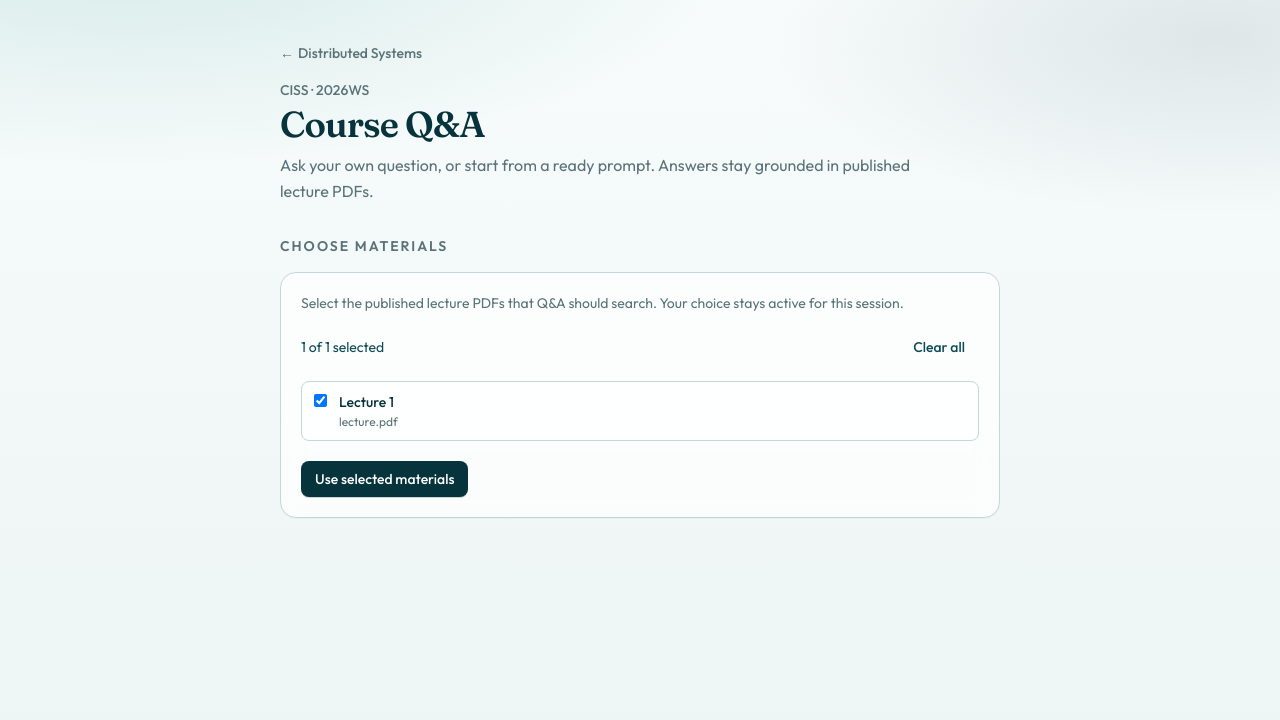
Test: course Q&A page › asks a grounded question and shows the answer with citations
Check: the heading "Course Q&A" is shown, box [280,102,485,146]
Check: the heading "Choose materials" is shown, box [280,237,448,255]
Click the button "Use selected materials": (385, 479) [301,461,468,497]
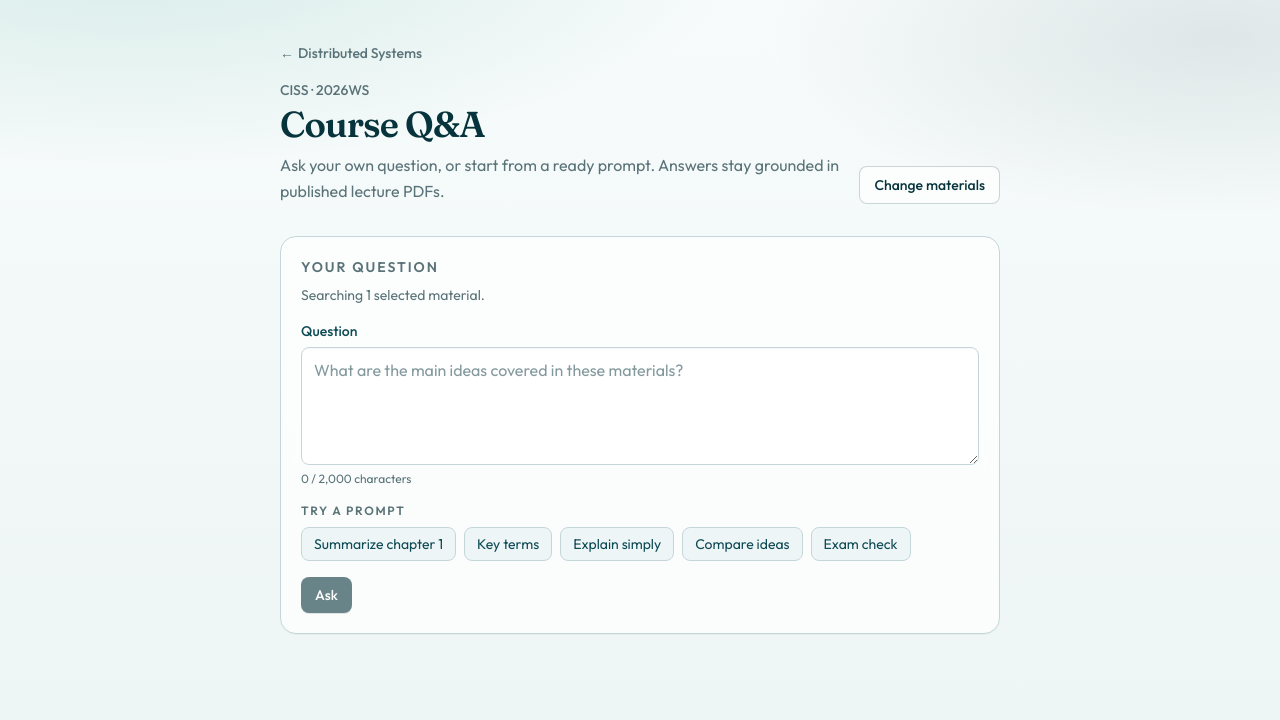
Check: the text "Searching 1 selected material." is shown, box [301,286,485,304]
In the text box labelled "Question": (640, 406) [301,347,979,465], type "What is consensus?"
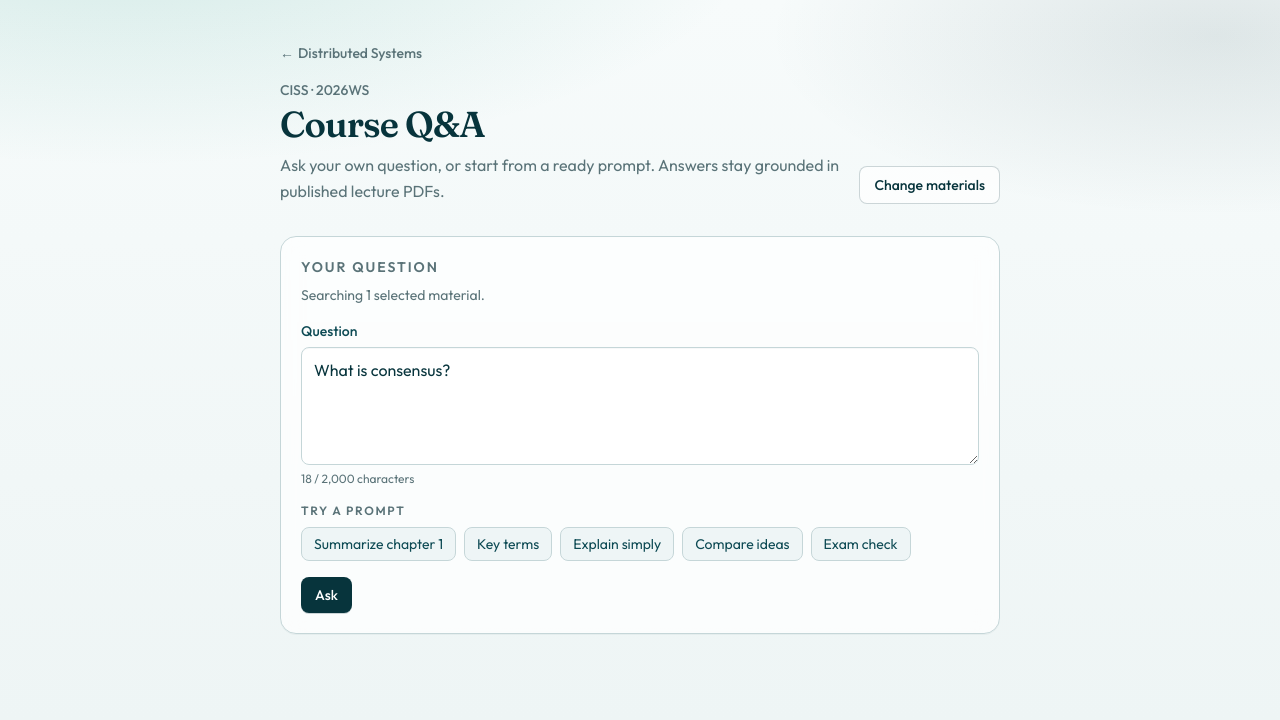
Click the button "Ask": (326, 595) [301,577,352,613]
(page scrolled)
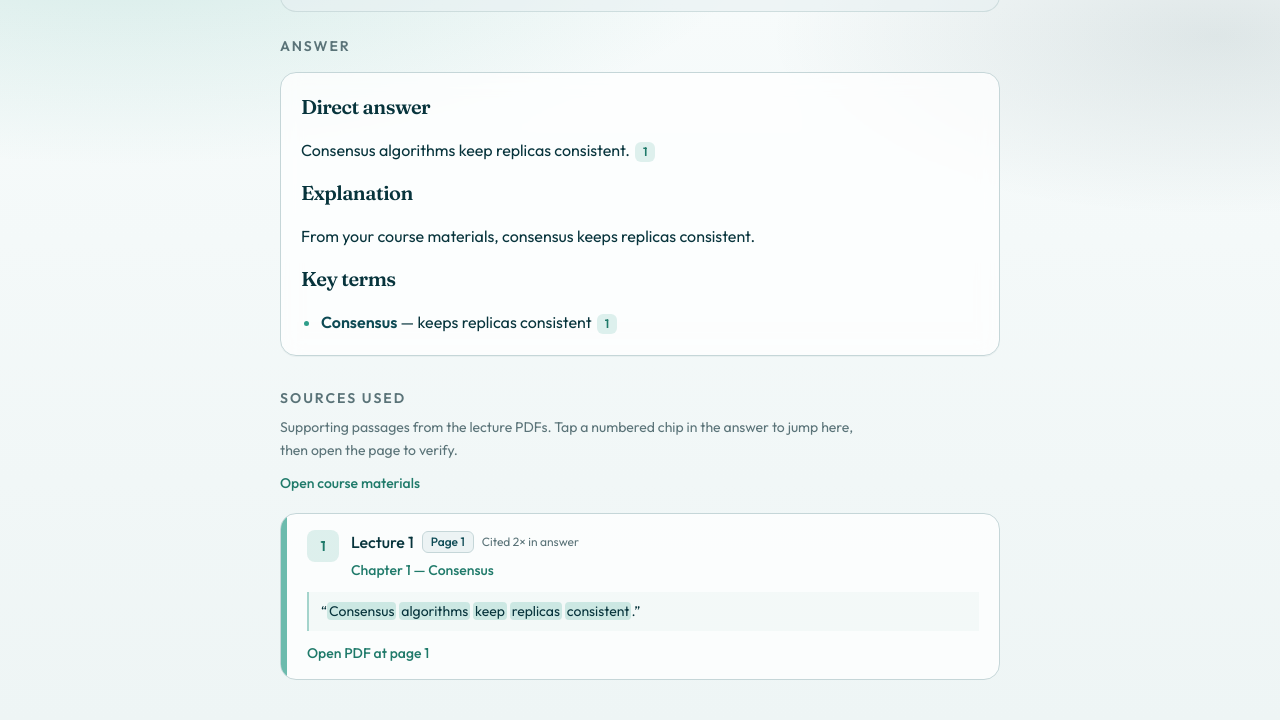
Check: the heading "Direct answer" is shown, box [301,94,430,119]
Check: the heading "Explanation" is shown, box [301,180,413,205]
Check: the heading "Key terms" is shown, box [301,266,396,291]
